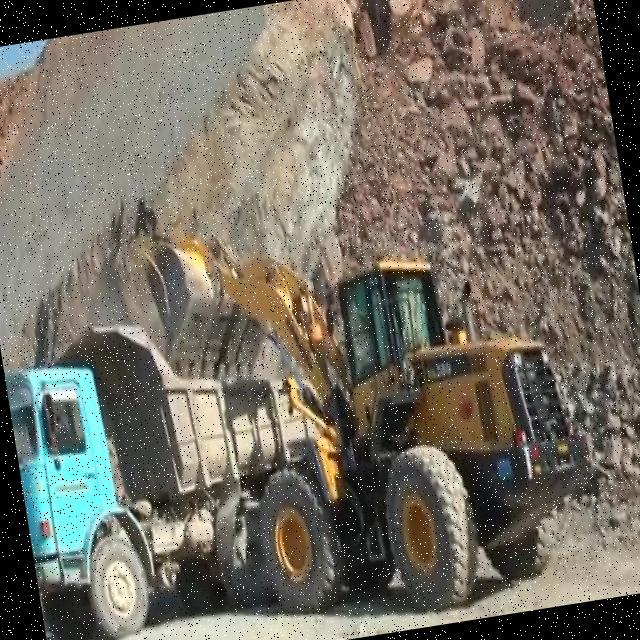Dump Truck: (0, 292, 344, 640)
Loader: (131, 172, 613, 640)
